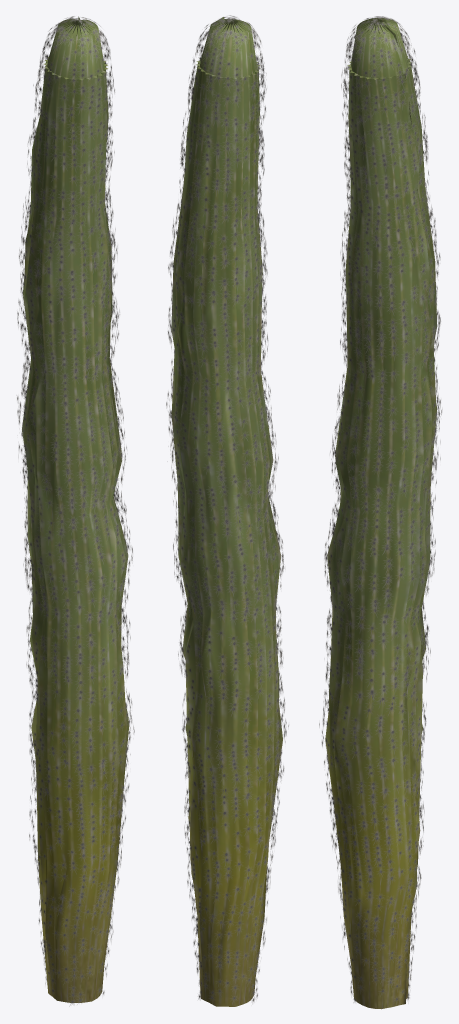
The model's file is cactus_1.glb.
3 views of the same model, side by side, from view 1: azimuth 90°, elevation 25°; view 2: azimuth 150°, elevation 25°; view 3: azimuth 330°, elevation 25° (orthographic).
Parts seen in each view (by area): view 1: cactus_1; view 2: cactus_1; view 3: cactus_1.
Part boxes in pixels (bbox=[...]): cactus_1: bbox=[16, 16, 134, 1006]; cactus_1: bbox=[166, 15, 288, 1006]; cactus_1: bbox=[319, 16, 442, 1009].
Bounding box in the file's own units: 0.9853 × 8.83 × 0.9886.
2 materials, 2 textured.
